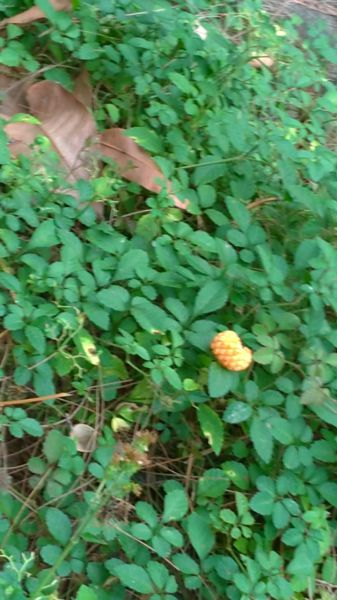eggs: (207, 326, 254, 379)
